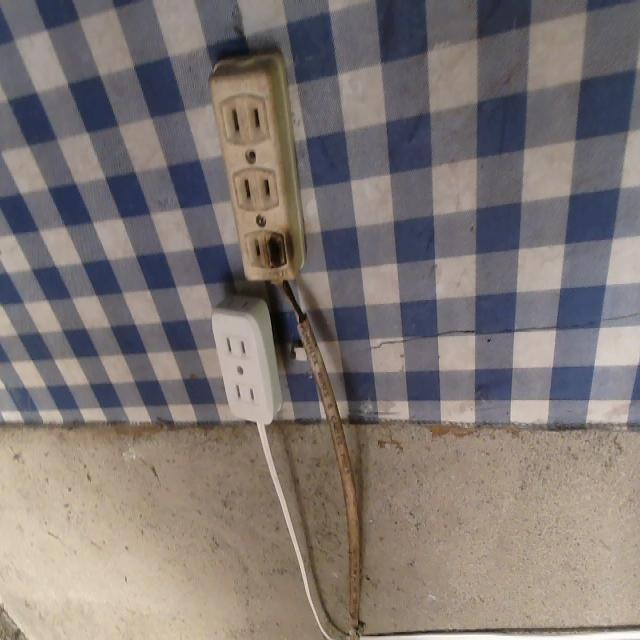-: (264, 227, 298, 284)
